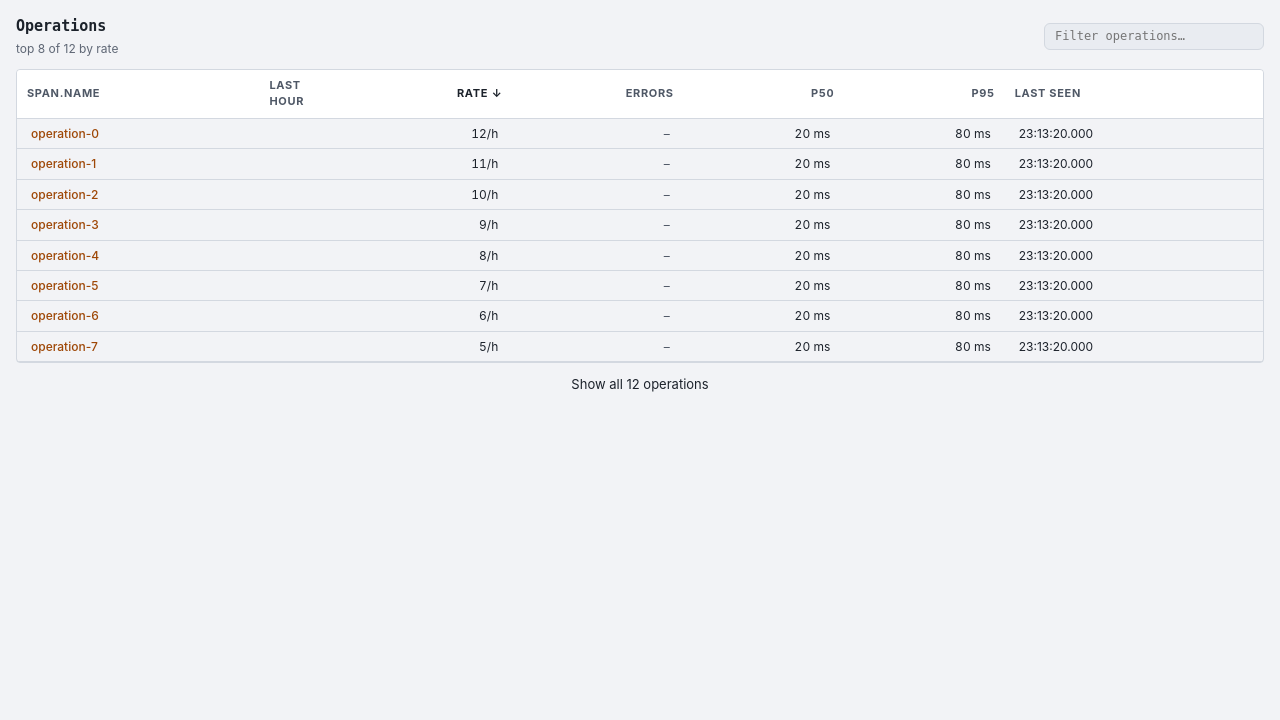
Test case: OperationsTable › shows only the top 8 by rate and says so, with a toggle to show the rest
Expected: the text "top 8 of 12 by rate" is shown, [16,40,118,57]
Click the button "Show all 12 operations" at (640, 384), box [571,375,709,394]
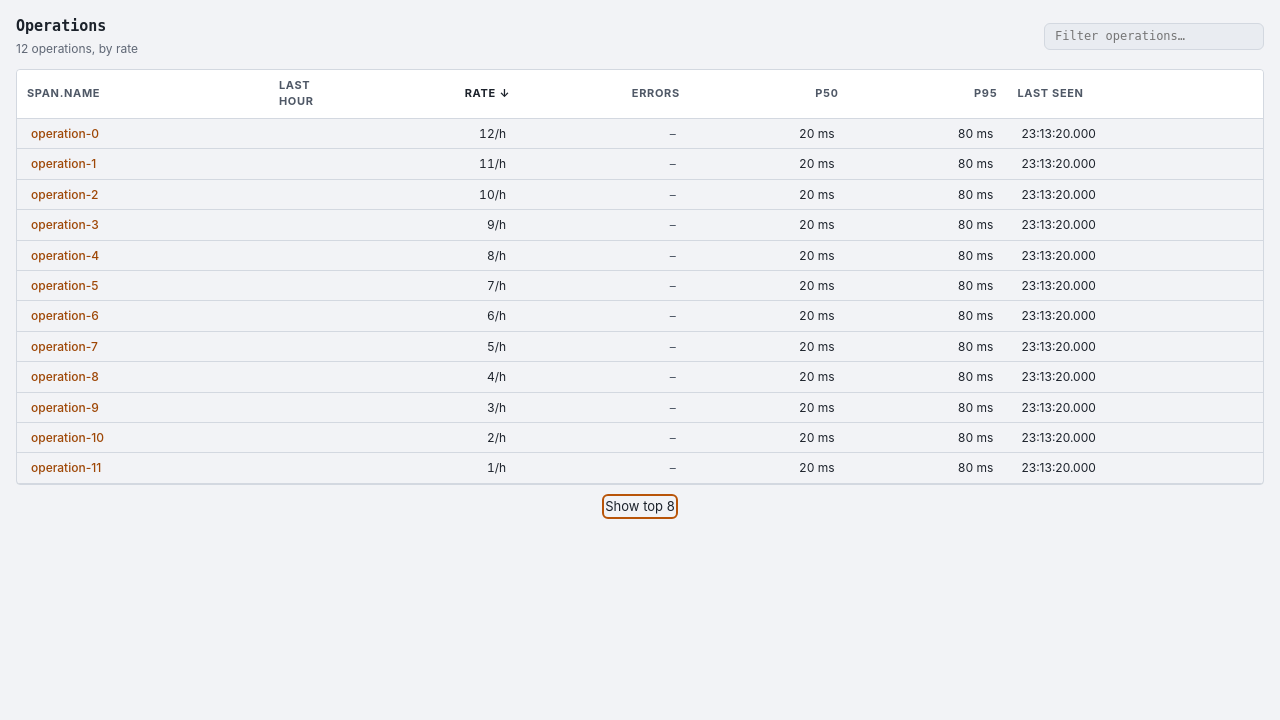
Result: the text "12 operations, by rate" is shown at [16,40,138,57]
Result: the button "Show top 8" is shown at [605,497,675,516]
